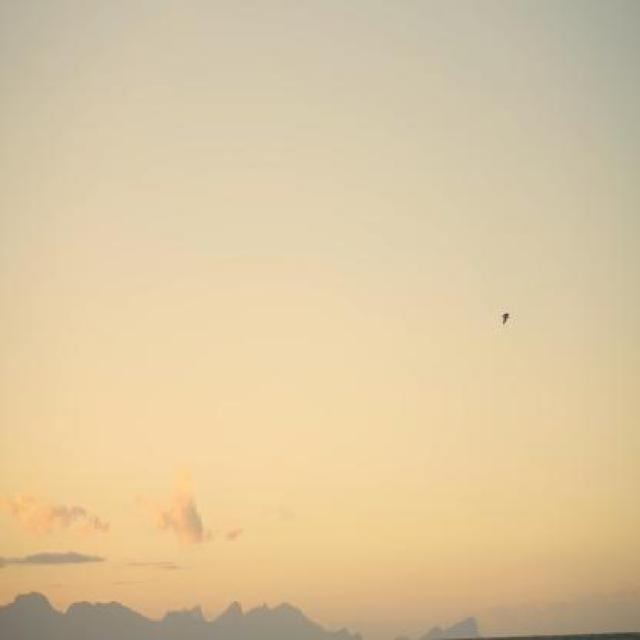bird: (499, 306, 513, 331)
